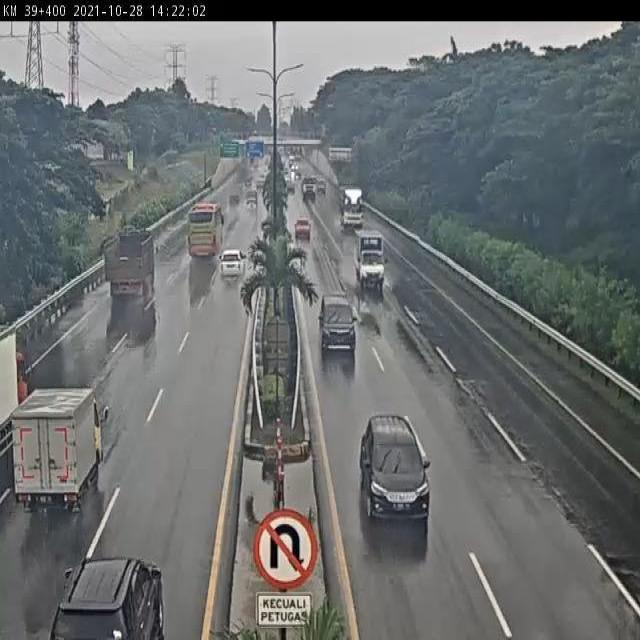big bus: (187, 202, 223, 262)
car: (358, 412, 433, 524), (316, 294, 358, 354), (219, 250, 249, 282), (293, 214, 311, 238)
truck-l-: (101, 232, 155, 304), (337, 184, 367, 233)
truck-s-: (13, 391, 105, 512), (353, 228, 388, 292)
